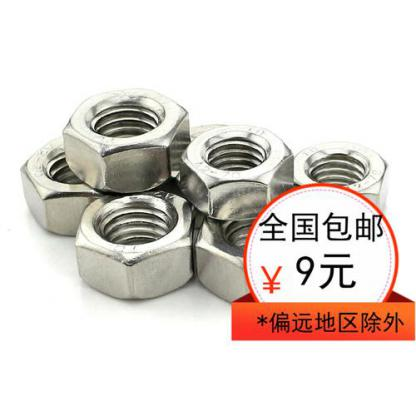FOD: (67, 187, 202, 295), (59, 85, 196, 191), (181, 122, 300, 219), (20, 129, 122, 240), (290, 142, 390, 222)
